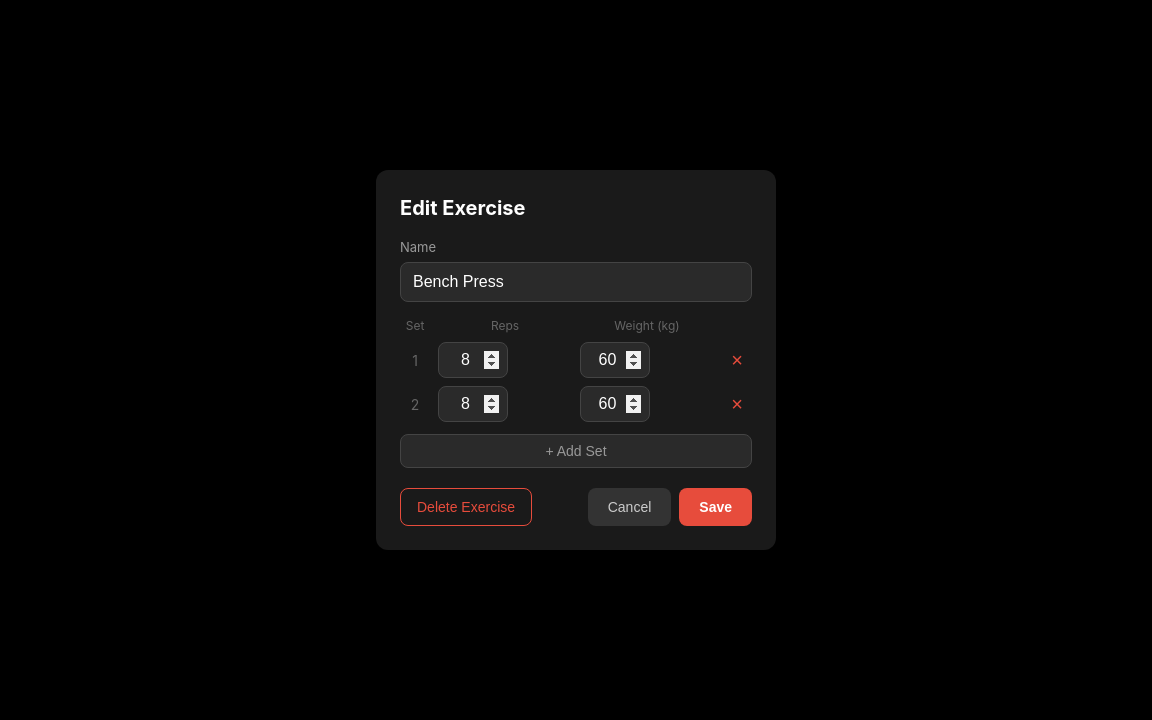
Scenario: EditModal › adds a new set when + Add Set is clicked
Click the button "+ Add Set". click: (576, 452)
box: x1=400 y1=434 x2=752 y2=468
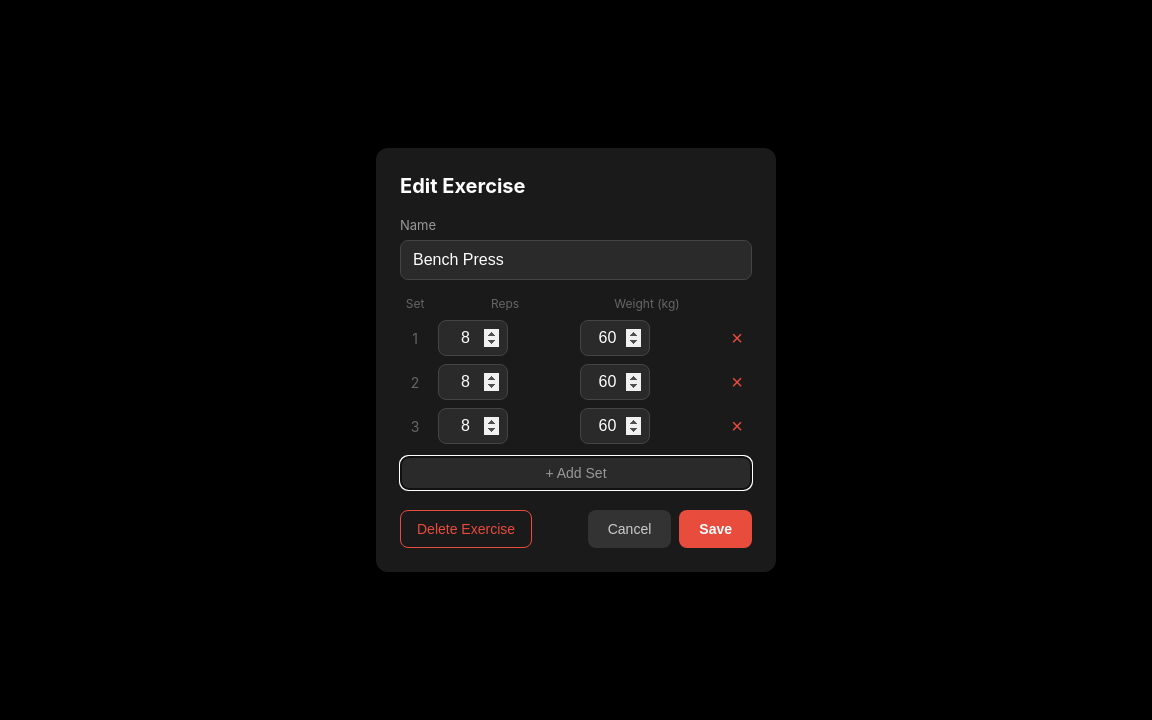
Expected: the number of number fields showing "8" is 3, x1=438 y1=320 x2=508 y2=356; x1=438 y1=364 x2=508 y2=400; x1=438 y1=408 x2=508 y2=444
